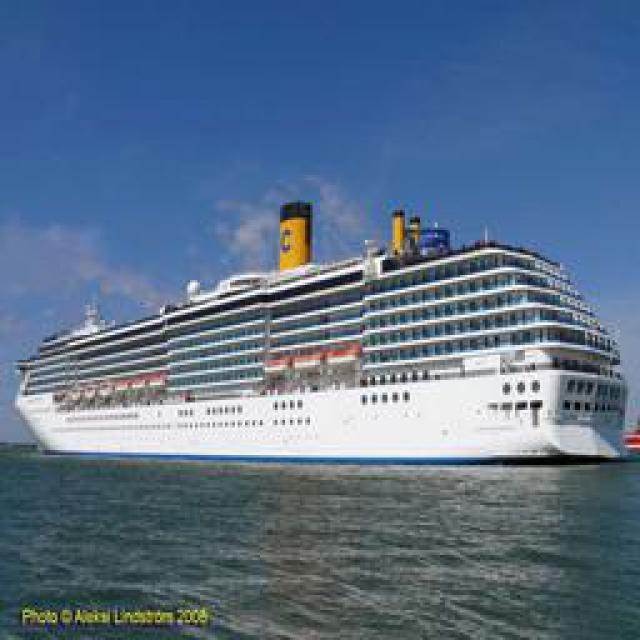Ship: (26, 198, 624, 466)
